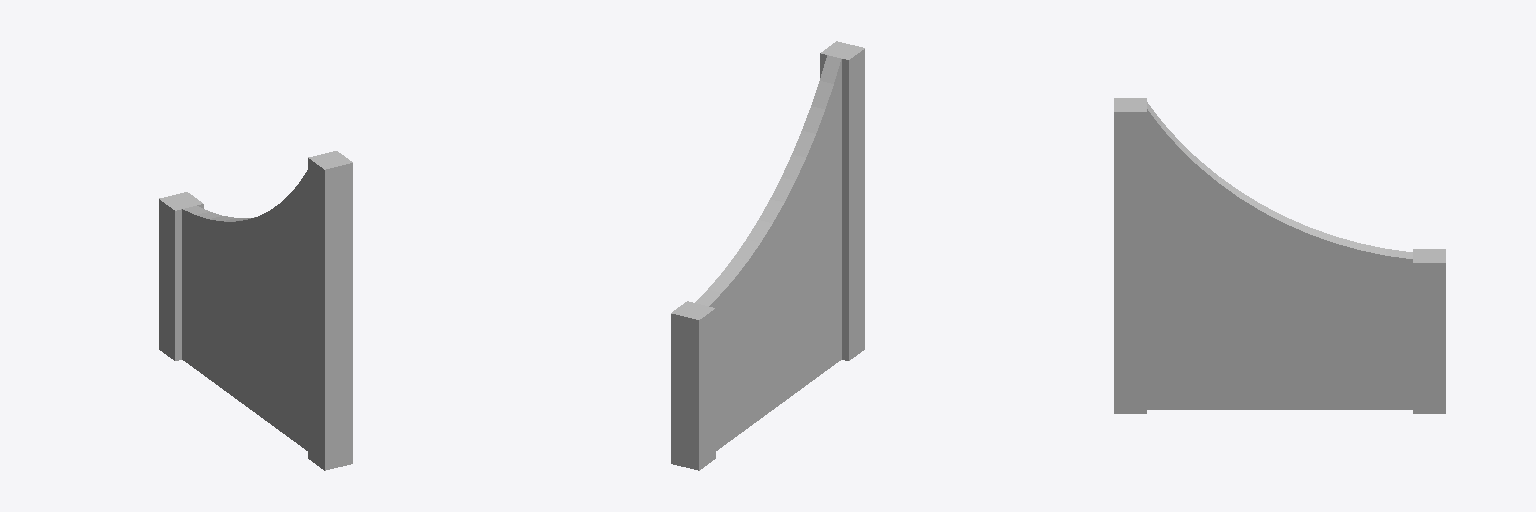
File: wallWoodSlope.obj
3 views of the same model, side by side, from view 1: azimuth 30°, elevation 25°; view 2: azimuth 150°, elevation 25°; view 3: azimuth 270°, elevation 25° (orthographic).
Parts seen in each view (by area): view 1: wallWoodSlope; view 2: wallWoodSlope; view 3: wallWoodSlope.
Part boxes in pixels (x1,y1,x2,y2): wallWoodSlope: (159, 151, 352, 470); wallWoodSlope: (671, 41, 864, 470); wallWoodSlope: (1114, 98, 1445, 413).
Bounding box in the file's own units: 0.1 × 1 × 1.